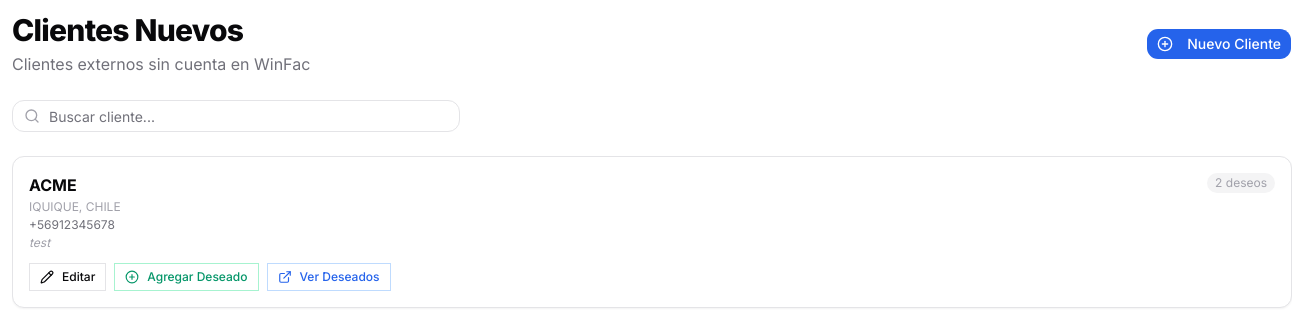
Test: ClientesNuevosPage › buscador filtra resultados — muestra mensaje de lista vacía
Expected: the text "ACME" is shown, x1=29 y1=175 x2=77 y2=195
Type "zzznoresults" into the field with placeholder "Buscar cliente...".
click(236, 116); type("zzznoresults")  # box x1=12 y1=100 x2=460 y2=132
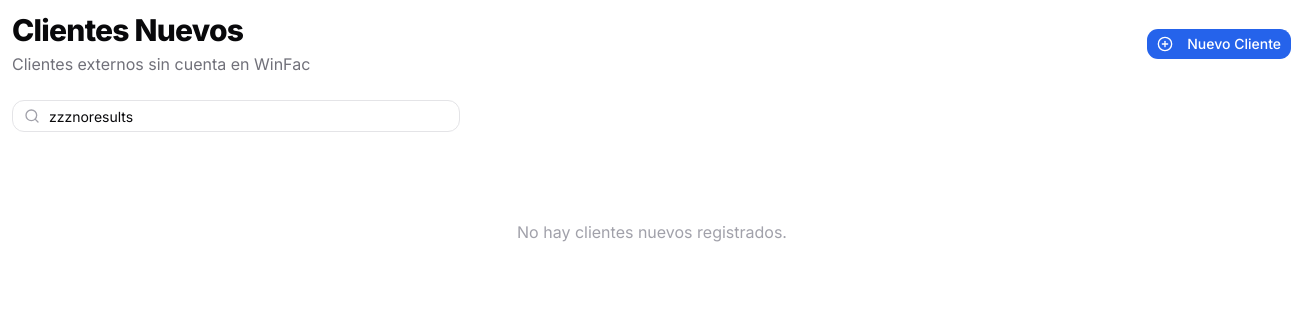
Expected: the text "ACME" is gone
